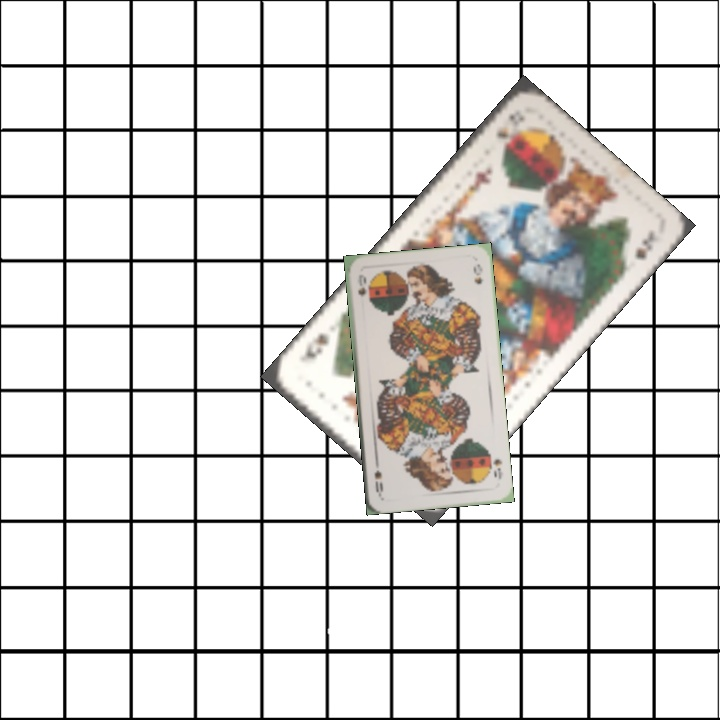SK: (491, 105, 528, 143)
SO: (354, 270, 369, 299), (489, 455, 505, 481)
